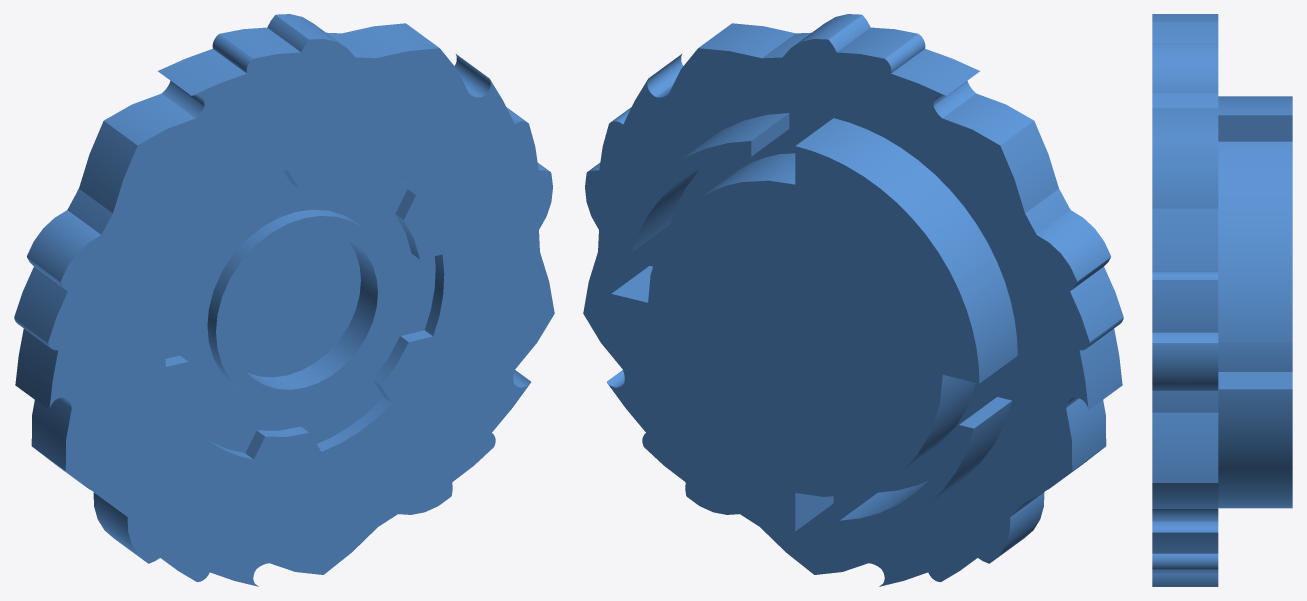
File: 2nd Top.fbx
3 renders of one model, left to right at view 1: azimuth 30°, elevation 25°; view 2: azimuth 150°, elevation 25°; view 3: azimuth 270°, elevation 25°, orthographic. The views are drawn at different scales.
Visible parts, largest first — view 1: 2nd Top; view 2: 2nd Top; view 3: 2nd Top.
Part boxes in pixels (left/top/right/bottom): 2nd Top: left=14, top=14, right=554, bottom=586; 2nd Top: left=583, top=14, right=1123, bottom=586; 2nd Top: left=1152, top=14, right=1292, bottom=586.
Size of the model in its own units: 34.38 by 34.95 by 8.5.
